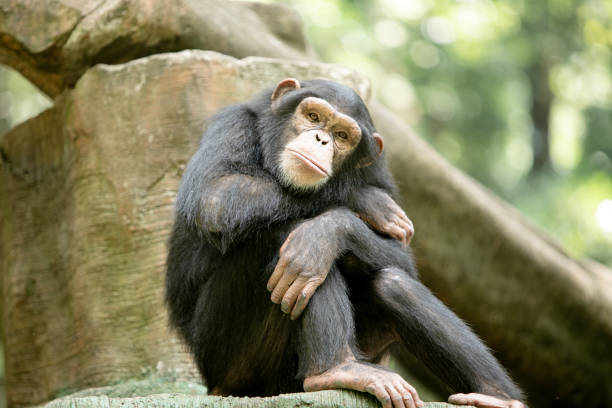chimpanzee: (254, 68, 391, 213)
